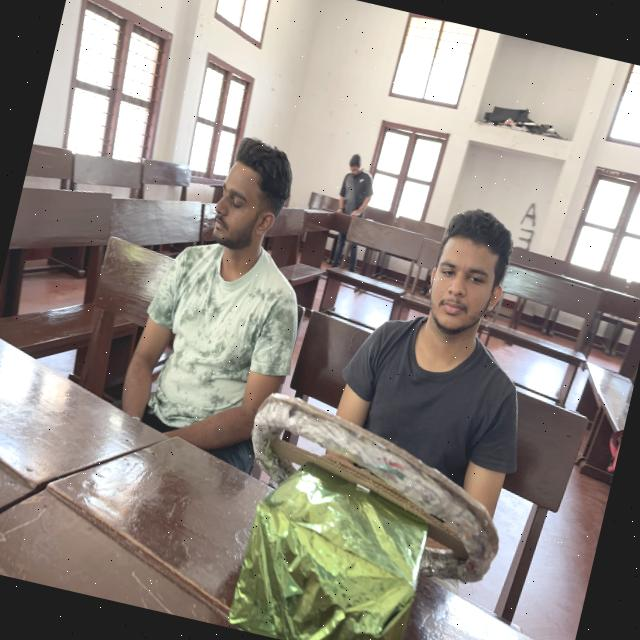Helmet: (296, 306, 543, 598), (105, 224, 324, 471)
